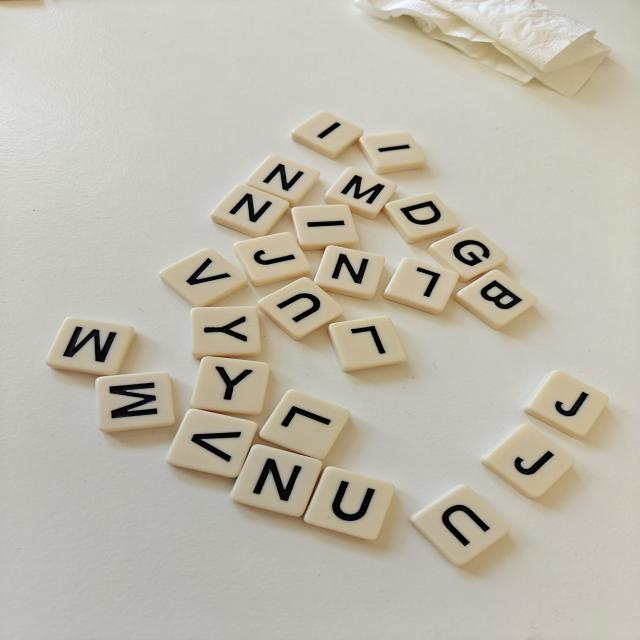b: (454, 270, 537, 329)
d: (383, 193, 458, 244)
g: (428, 228, 507, 282)
i: (292, 111, 363, 159), (292, 205, 359, 251), (358, 132, 425, 174)
j: (481, 424, 574, 498), (524, 371, 608, 436), (234, 232, 310, 285)
l: (260, 390, 350, 460), (328, 316, 406, 372), (383, 258, 458, 314)
m: (46, 317, 135, 375), (96, 372, 174, 432), (325, 168, 397, 219)
n: (231, 445, 322, 516), (211, 185, 289, 237), (245, 155, 320, 207), (314, 246, 385, 299)
u: (410, 485, 509, 566), (303, 467, 394, 539), (258, 277, 343, 340)
v: (166, 409, 257, 478), (160, 248, 248, 307)
y: (191, 357, 270, 415), (191, 306, 261, 359)
